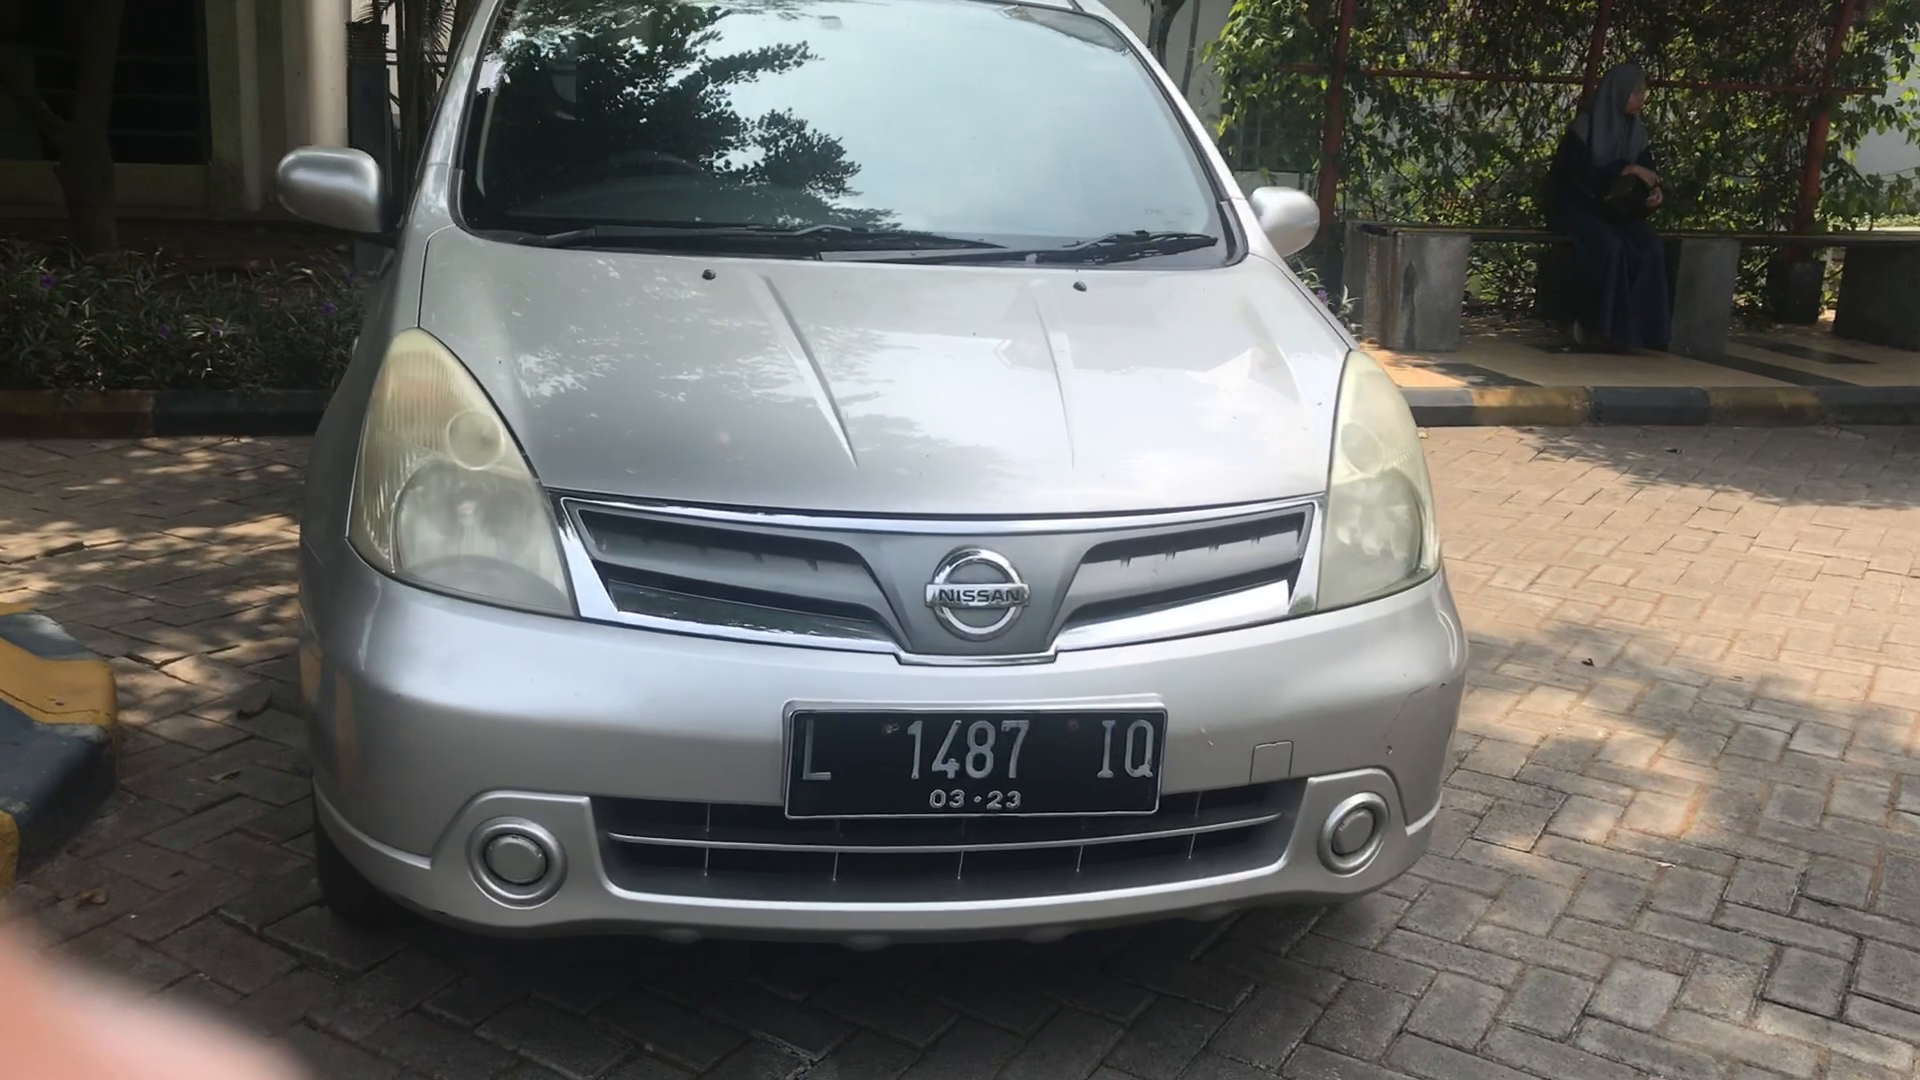plate: (780, 707, 1165, 812)
